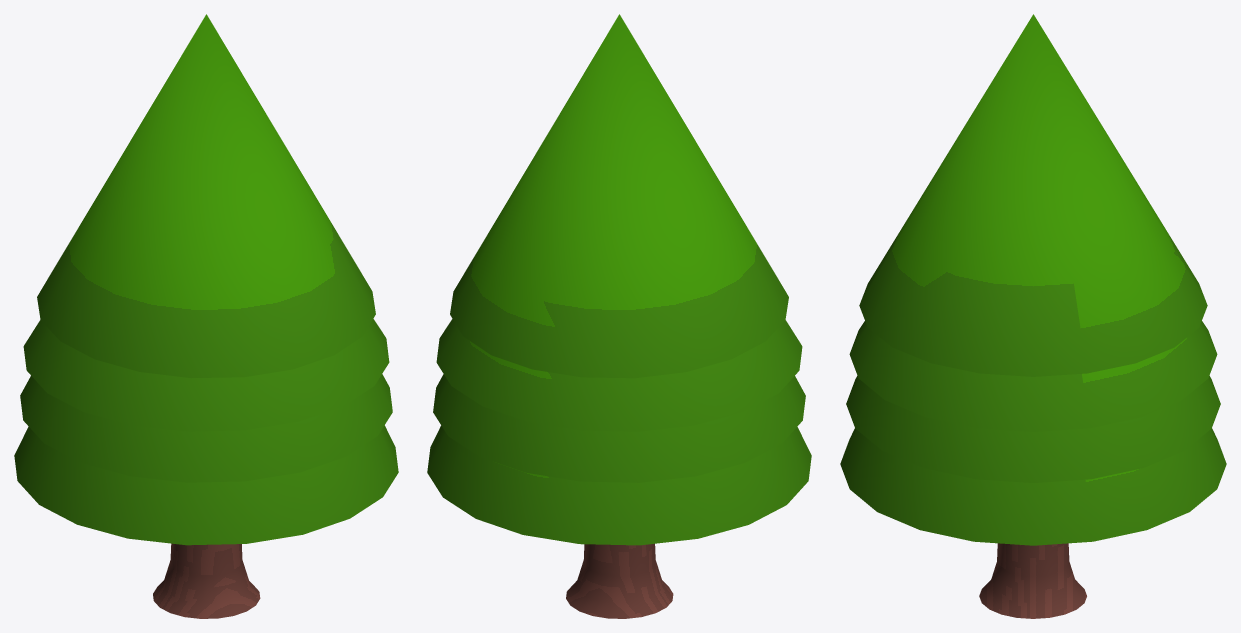
The model's file is TreeV2.fbx.
3 renders of one model, left to right at view 1: azimuth 30°, elevation 25°; view 2: azimuth 150°, elevation 25°; view 3: azimuth 270°, elevation 25°, orthographic.
Parts seen in each view (by area): view 1: TreeTop3, TreeTop, TreeTop2, TreeTop1, Tree2; view 2: TreeTop3, TreeTop, TreeTop2, TreeTop1, Tree2; view 3: TreeTop3, TreeTop, TreeTop2, TreeTop1, Tree2.
Boxes of the visible parts, x1,y1,x2,y2 form: TreeTop3: (37,14,375,378); TreeTop: (14,425,398,545); TreeTop2: (23,319,389,431); TreeTop1: (20,374,392,482); Tree2: (153,543,260,618); TreeTop3: (450,14,788,378); TreeTop: (427,425,811,545); TreeTop2: (436,319,802,431); TreeTop1: (433,374,805,482); Tree2: (566,543,673,618); TreeTop3: (859,14,1207,376); TreeTop: (840,428,1226,545); TreeTop2: (849,321,1217,431); TreeTop1: (846,376,1220,482); Tree2: (979,543,1086,618).
Bounding box in the file's own units: 1015 × 1688 × 1015.
2 materials, 2 textured.
